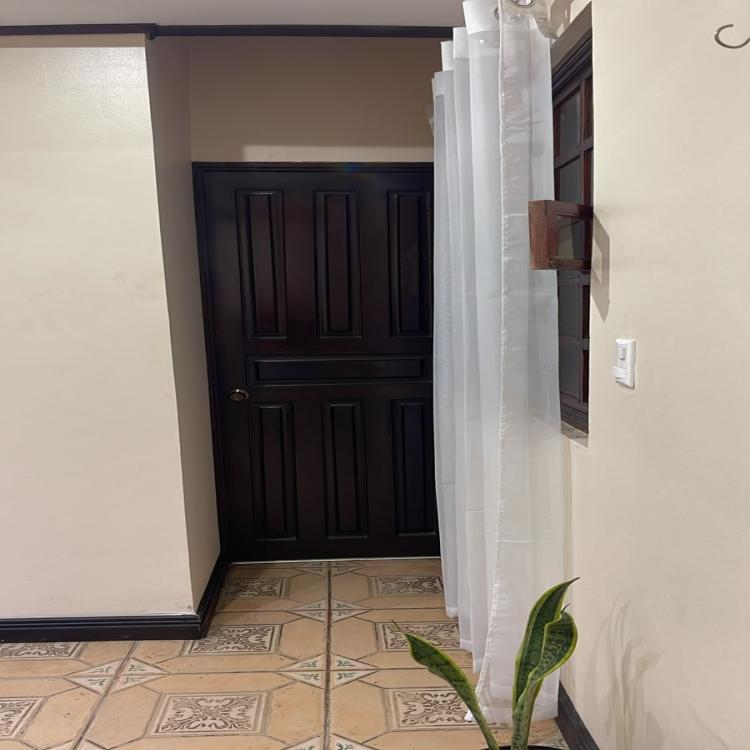ClosedDoor: (177, 155, 498, 567)
